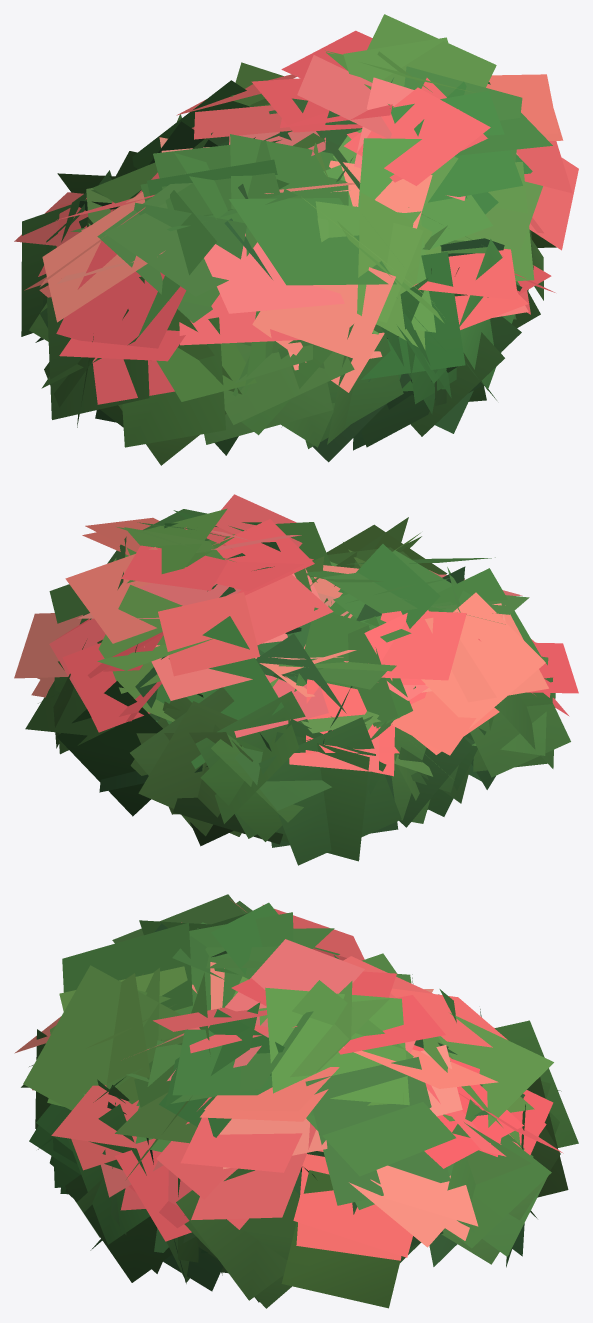
Rendered from tree-village-bush-azalea-v1.glb.
The picture shows the model from 3 angles, top to bottom: view 1: azimuth 30°, elevation 25°; view 2: azimuth 150°, elevation 25°; view 3: azimuth 270°, elevation 25°; orthographic projection. The views are drawn at different scales.
Parts seen in each view (by area): view 1: cards_round, cards_sakura; view 2: cards_round, cards_sakura; view 3: cards_round, cards_sakura.
Boxes of the visible parts, x1,y1,x2,y2 form: cards_round: (21,14,556,465); cards_sakura: (14,30,578,404); cards_round: (25,508,570,865); cards_sakura: (14,494,578,776); cards_round: (21,894,578,1308); cards_sakura: (14,899,563,1260).
Size of the model in its own units: 2.3 by 1.13 by 1.98.
